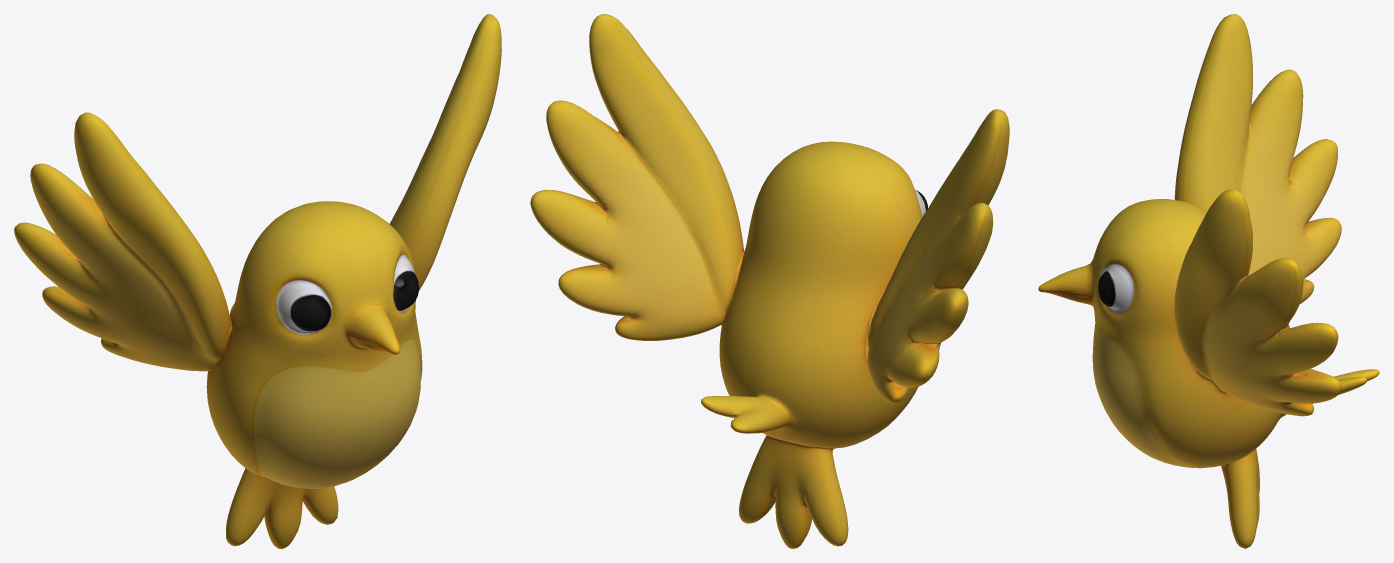
File: tripo_convert_0abf0b57-e264-42dd-9267-a9684052c6ad.fbx
The picture shows the model from 3 angles, left to right: view 1: azimuth 30°, elevation 25°; view 2: azimuth 150°, elevation 25°; view 3: azimuth 270°, elevation 25°; orthographic projection. The views are drawn at different scales.
Parts seen in each view (by area): view 1: tripo_node_0abf0b57; view 2: tripo_node_0abf0b57; view 3: tripo_node_0abf0b57.
Boxes of the visible parts, <box> form: tripo_node_0abf0b57: <box>14,14,501,548</box>; tripo_node_0abf0b57: <box>530,14,1009,548</box>; tripo_node_0abf0b57: <box>1038,14,1379,548</box>.
Bounding box in the file's own units: 0.9354 × 0.9778 × 0.6899.
Materials: 1 (1 with a texture image).
